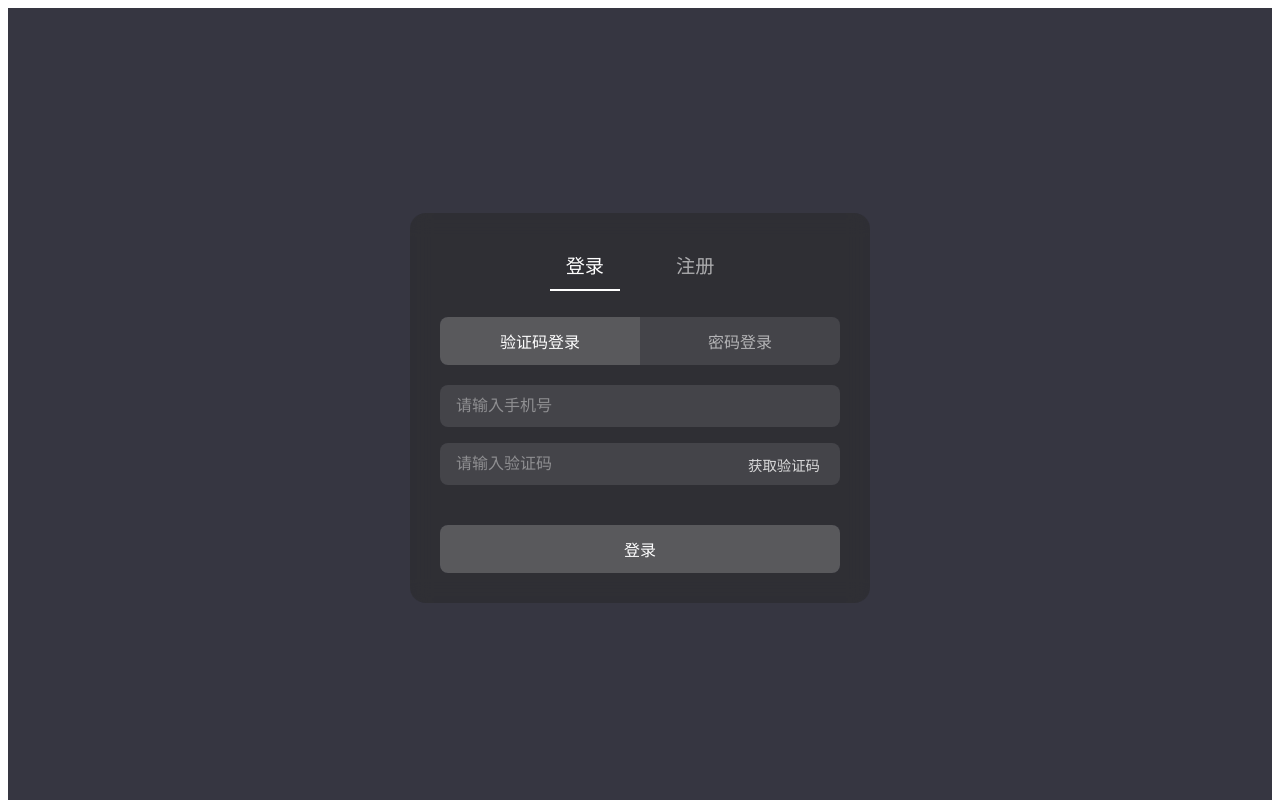
登录页面 › 验证码请求 › 成功请求验证码后显示倒计时
In the field with test id "phone-input": (640, 406) [440,385,840,427], type "13800138000"
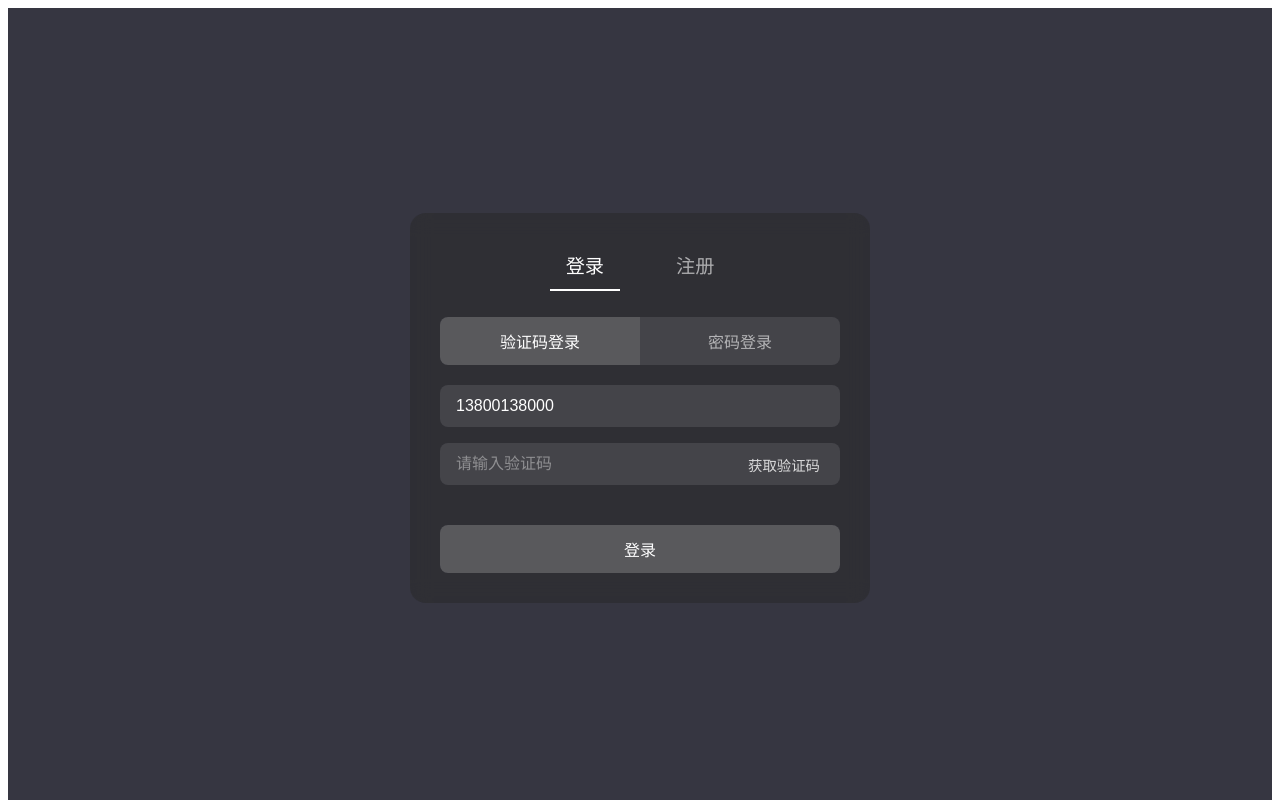
Click the button with test id "request-code-button": (784, 464) [736,446,832,482]
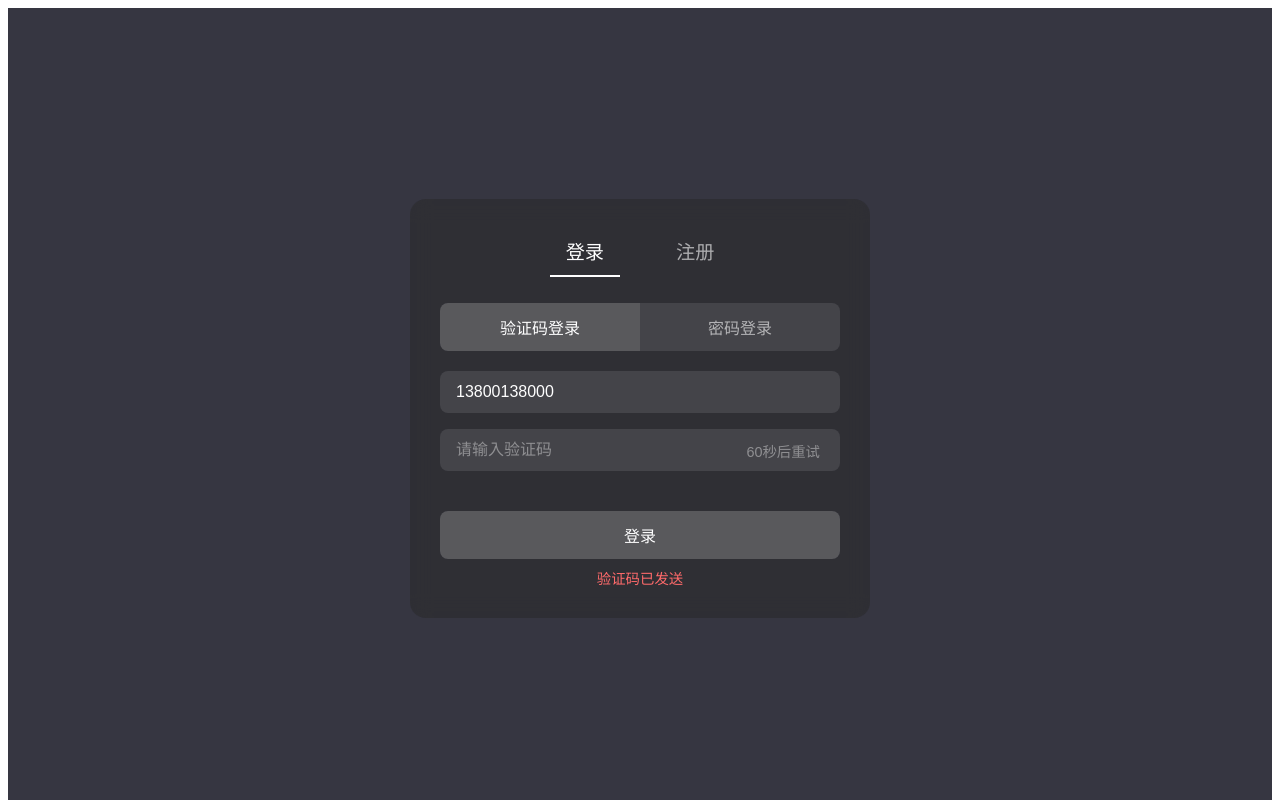
Check: the button with test id "request-code-button" reads "60秒后重试", box [734,431,832,468]
